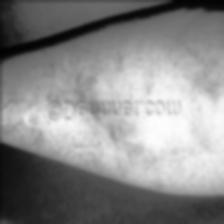Non-Cancerous Skin Condition: (54, 50, 224, 88), (72, 122, 150, 162), (0, 64, 39, 130)
